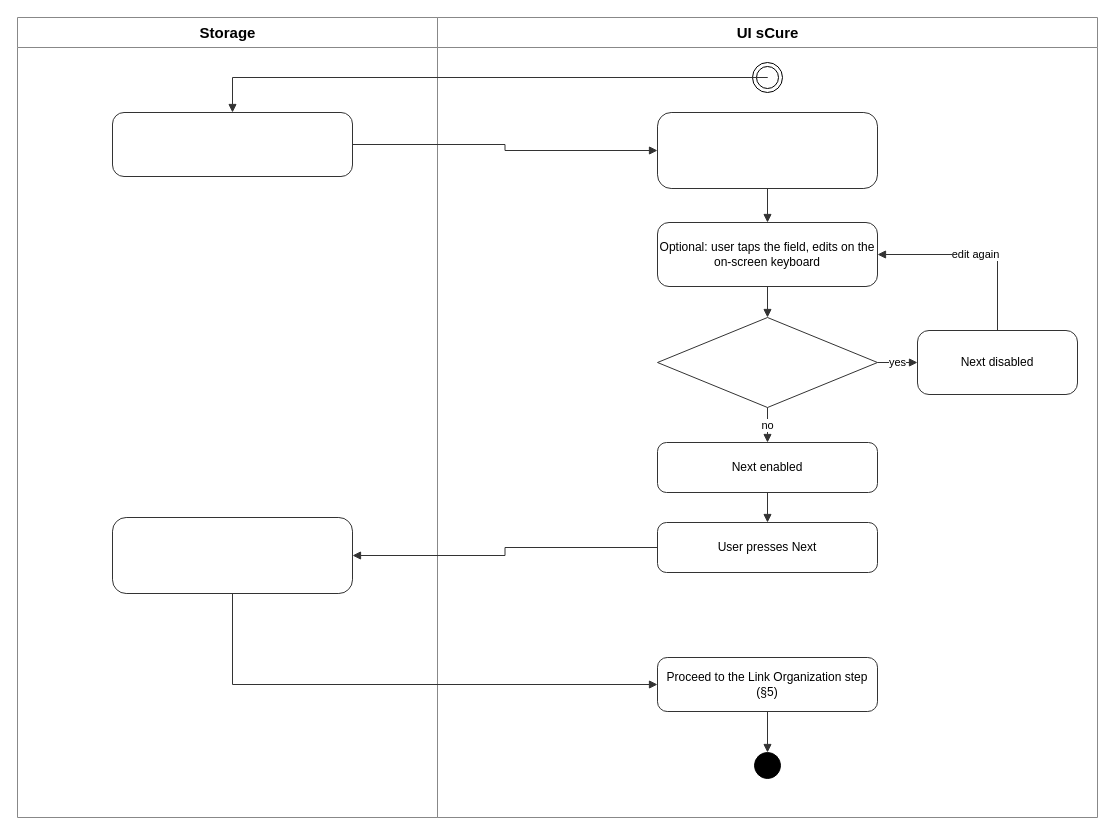
Image size: 1115x835. Some labels were removed from this diagram. Each missing label, with the centre of its shape:
Name empty or spaces only?: (767,362)
Name step: Device Name pre-filled with the saved name, else "sCure": (767,150)
Read the saved System Name (ui-settings.json): (232,144)
Save the trimmed name as the System Name (ui-settings.json): (232,555)
